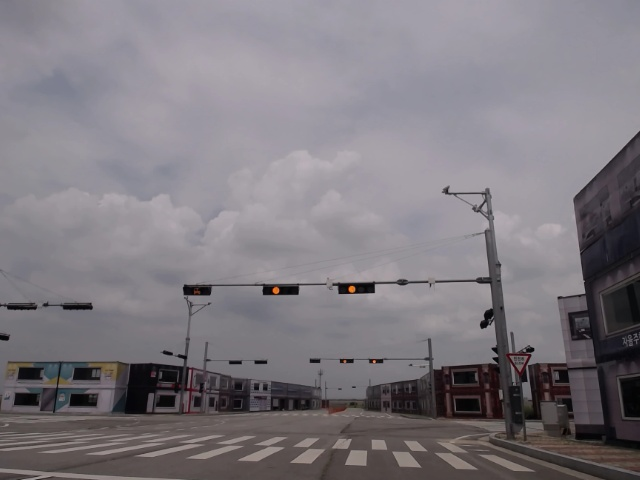orange_4: (335, 281, 377, 295), (260, 285, 301, 296), (367, 358, 386, 366), (338, 357, 356, 365)
